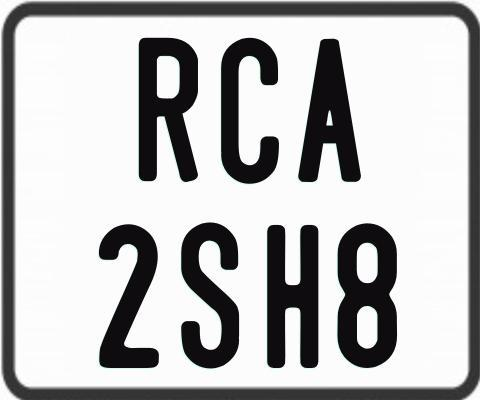2: (98, 223, 158, 369)
8: (336, 221, 396, 369)
A: (295, 36, 360, 182)
C: (221, 35, 281, 183)
H: (265, 224, 320, 369)
R: (136, 37, 199, 185)
S: (178, 222, 241, 367)
